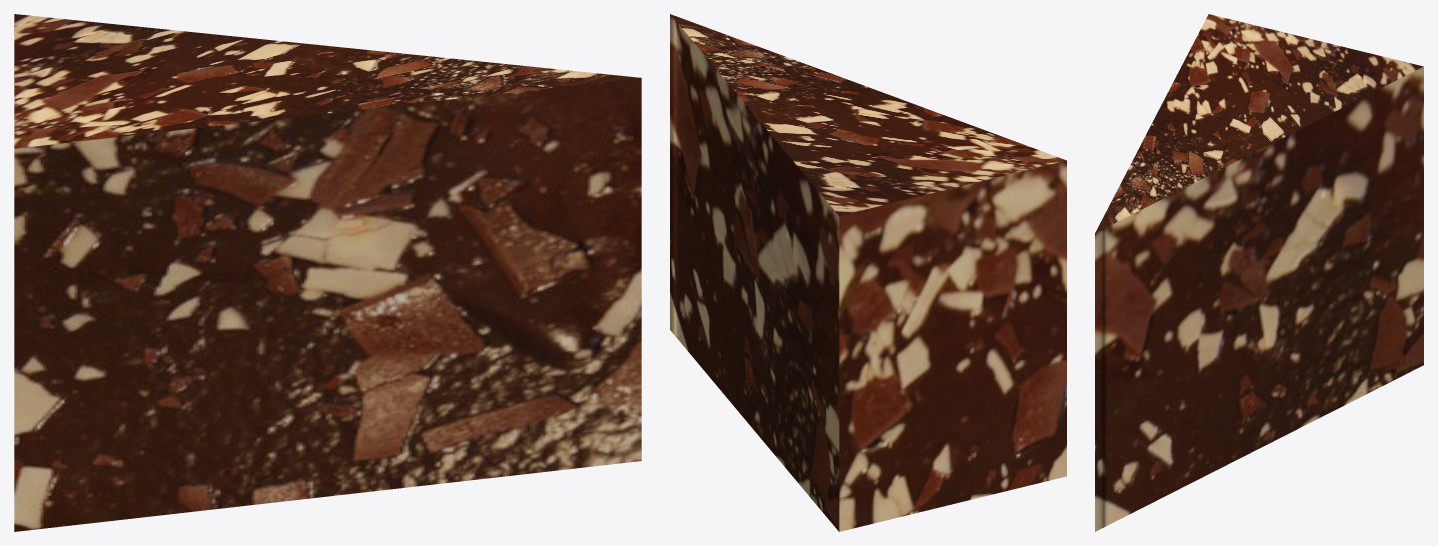
Rendered from cake.fbx.
The picture shows the model from 3 angles, left to right: view 1: azimuth 30°, elevation 25°; view 2: azimuth 150°, elevation 25°; view 3: azimuth 270°, elevation 25°; orthographic projection. The views are drawn at different scales.
Visible parts, largest first — view 1: pCylinder8; view 2: pCylinder8; view 3: pCylinder8.
Part boxes in pixels (left/top/right/bottom): pCylinder8: left=14, top=14, right=641, bottom=531; pCylinder8: left=670, top=14, right=1066, bottom=531; pCylinder8: left=1095, top=14, right=1423, bottom=531.
Bounding box in the file's own units: 8.3 × 5.64 × 5.48.
Materials: 1 (1 with a texture image).
